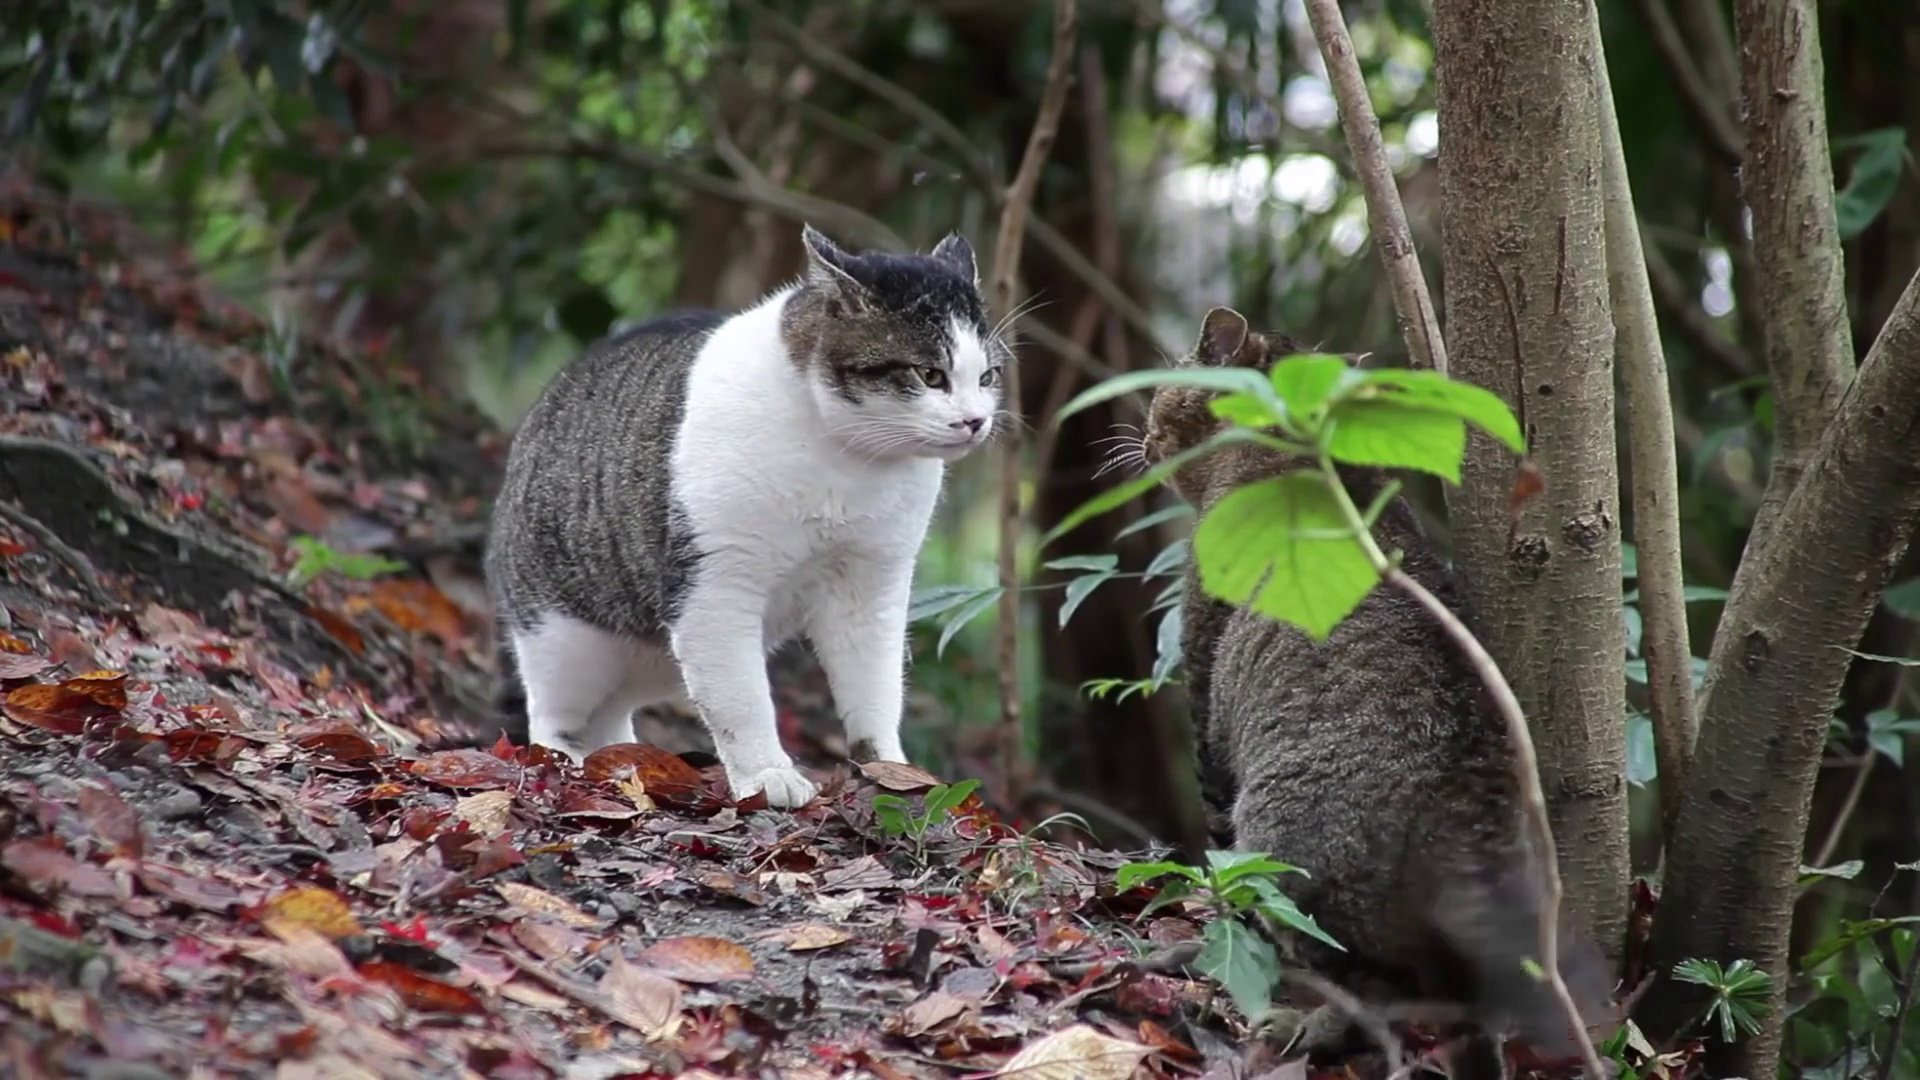black-white: (485, 219, 1000, 807)
pure black: (1142, 307, 1561, 1017)
